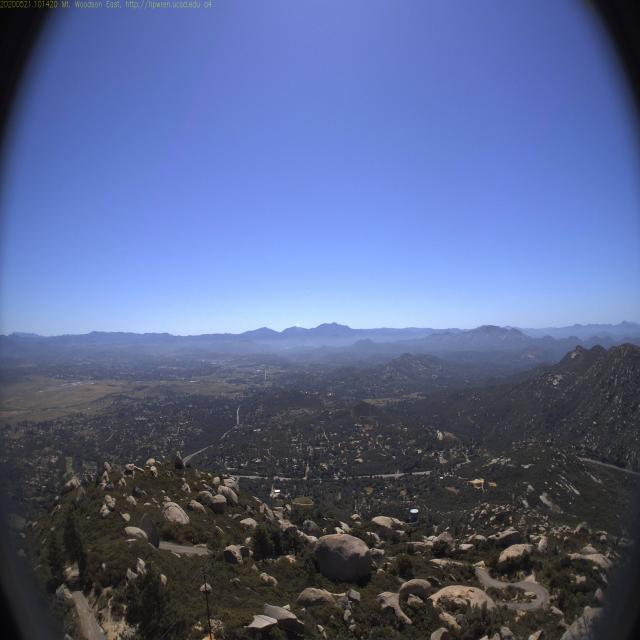smoke: (295, 320, 314, 346)
